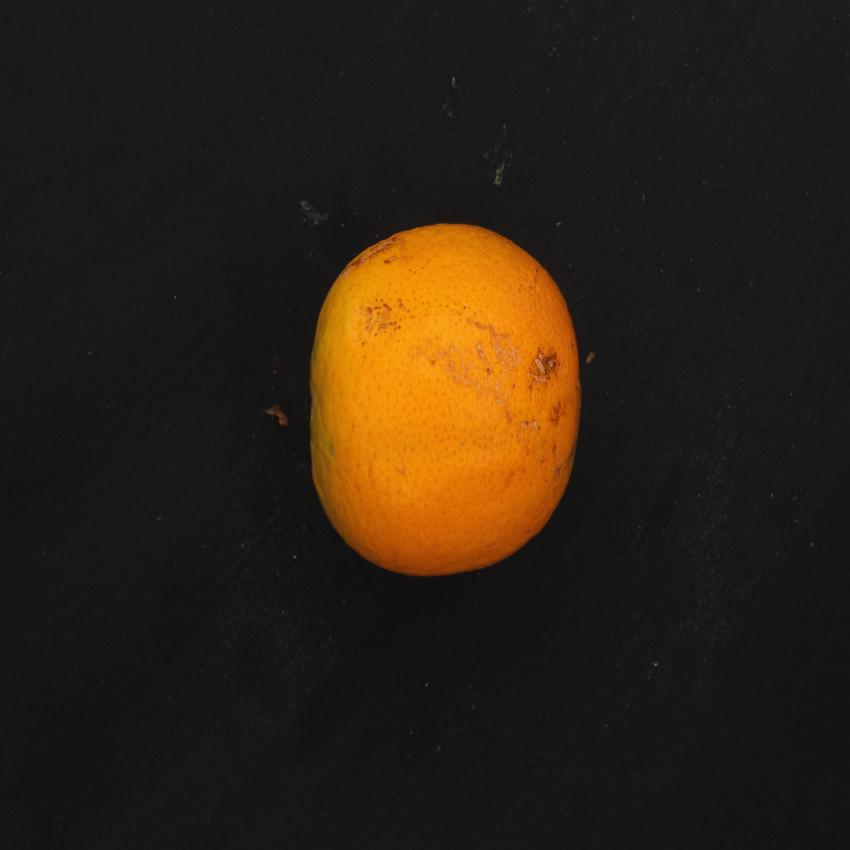Buen estado: (303, 214, 589, 590)
